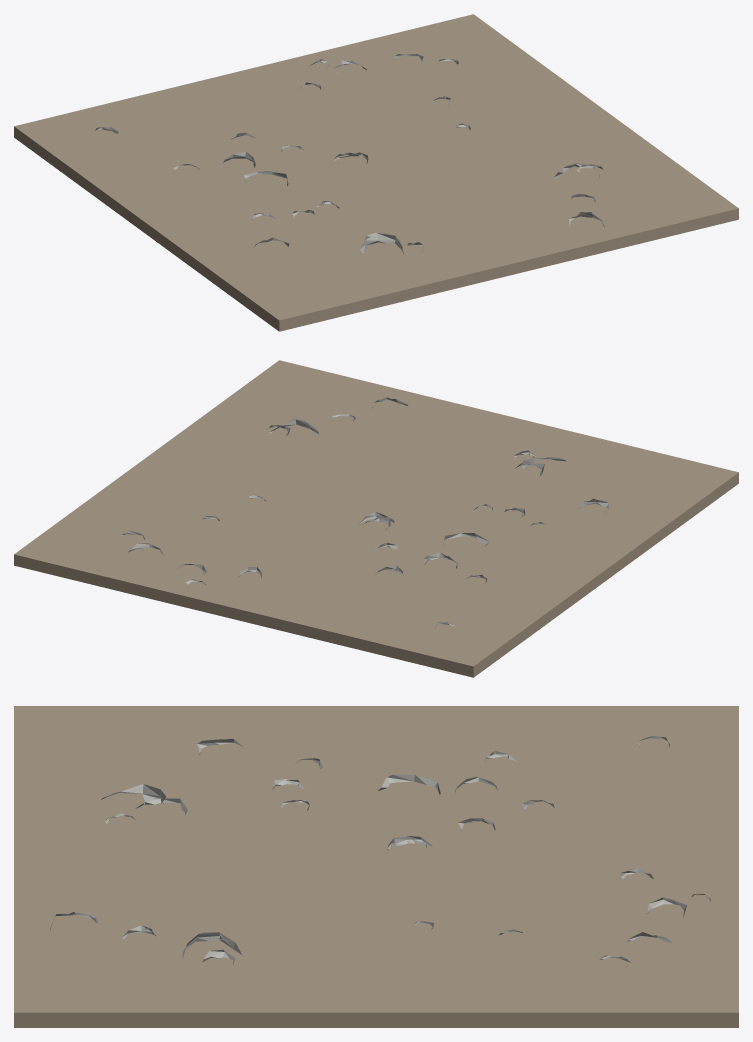
File: dragons-and-wyverns-lair-ground-tile-f4bf116c__36747.glb
The picture shows the model from 3 angles, top to bottom: view 1: azimuth 30°, elevation 25°; view 2: azimuth 150°, elevation 25°; view 3: azimuth 270°, elevation 25°; orthographic projection. The views are drawn at different scales.
Visible parts, largest first — view 1: lair-ground-tile; view 2: lair-ground-tile; view 3: lair-ground-tile.
Boxes of the visible parts, x1,y1,x2,y2 form: lair-ground-tile: (14,14,738,331); lair-ground-tile: (14,360,738,677); lair-ground-tile: (14,706,738,1027).
Size of the model in its own units: 6 by 0.2765 by 6.
